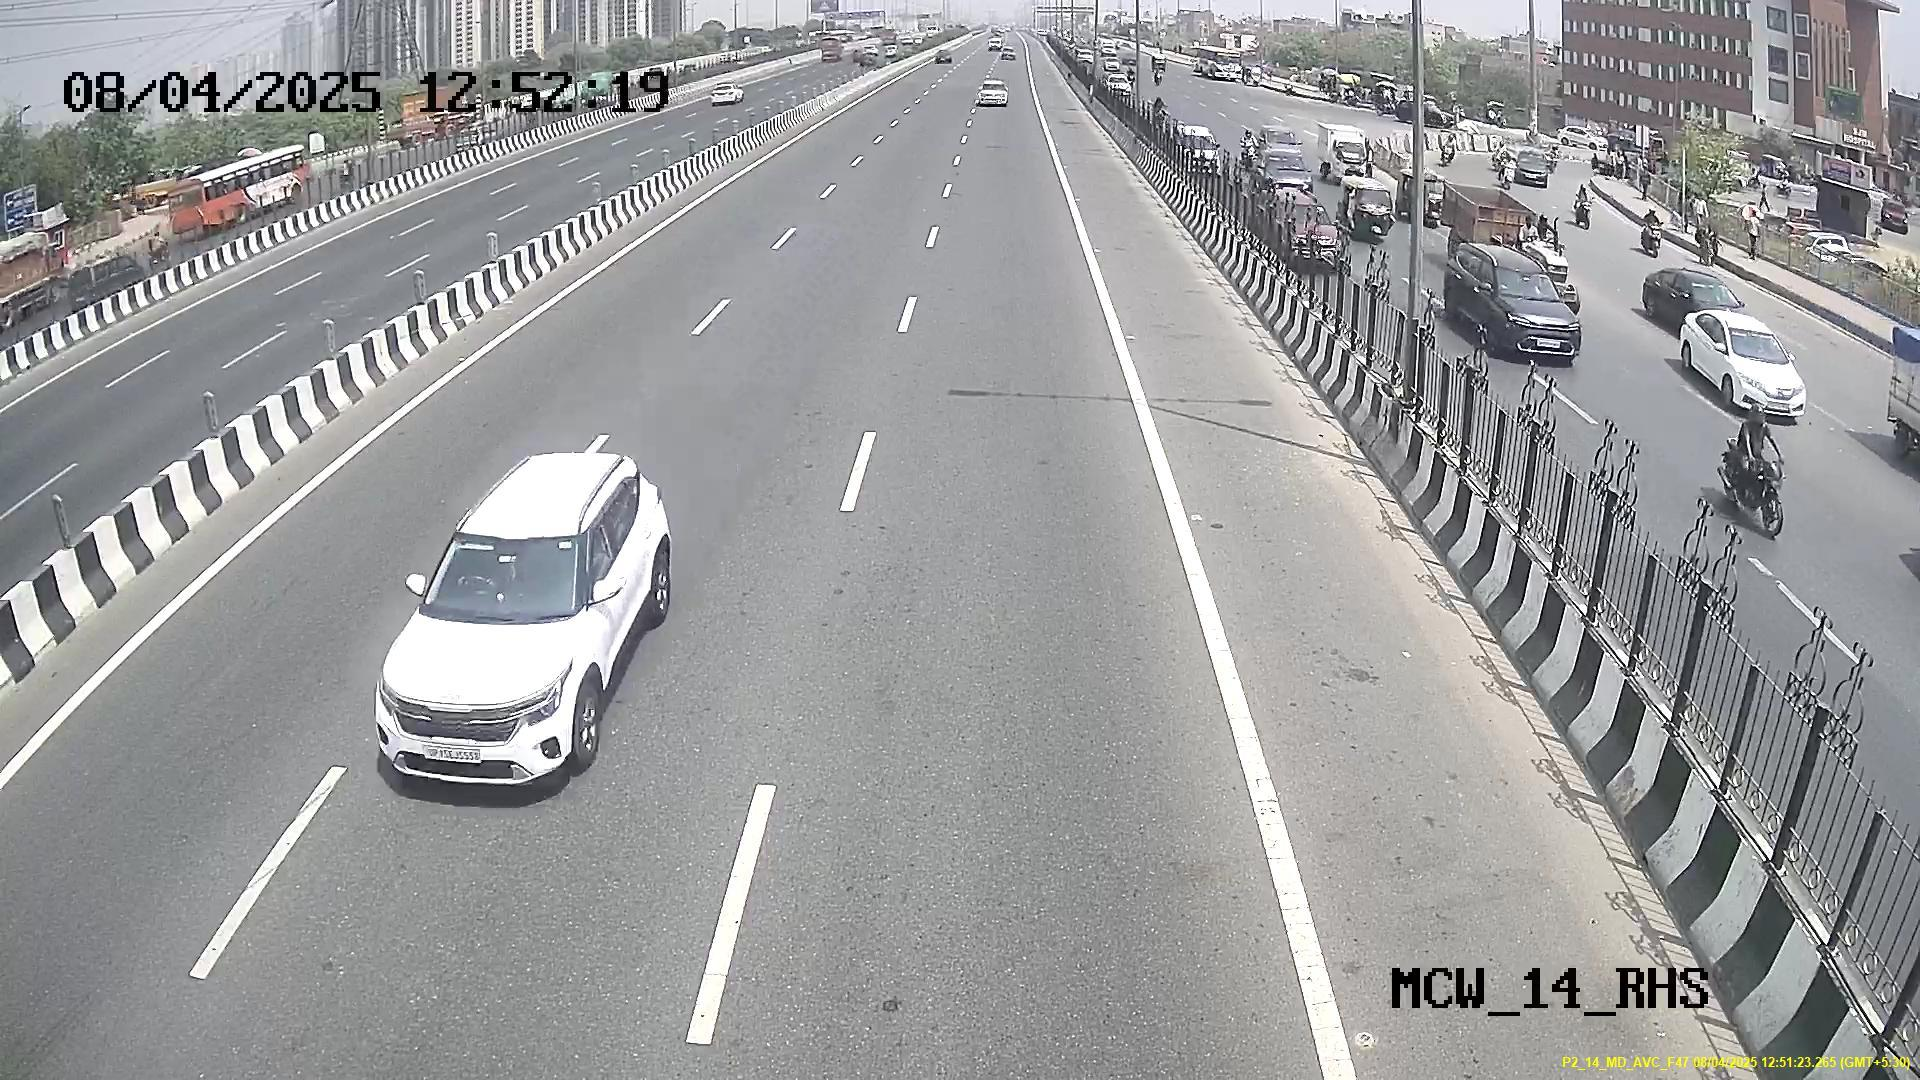car: (380, 512, 612, 791)
